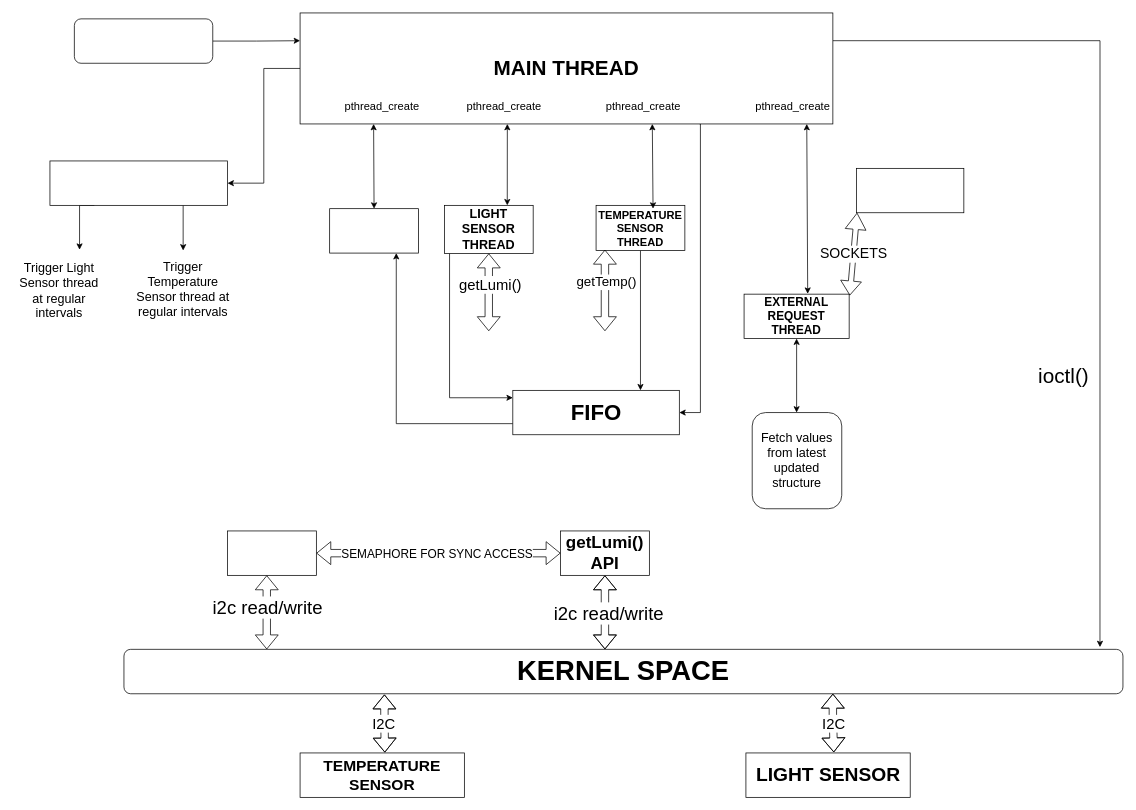
The diagram is 1136 pixels wide and 810 high, and some of its shapes have lost their labels. Here are the shapes that lost their labels. From the top down, the centre of each, then its label:
At (x=143, y=40): "Heartbeat Flags from each threads".
At (x=138, y=182): "TIMER MODULES".
At (x=910, y=190): "EXTERNAL SOURCE".
At (x=373, y=230): "LOGGING THREAD".
At (x=271, y=552): "getTemp() API".
